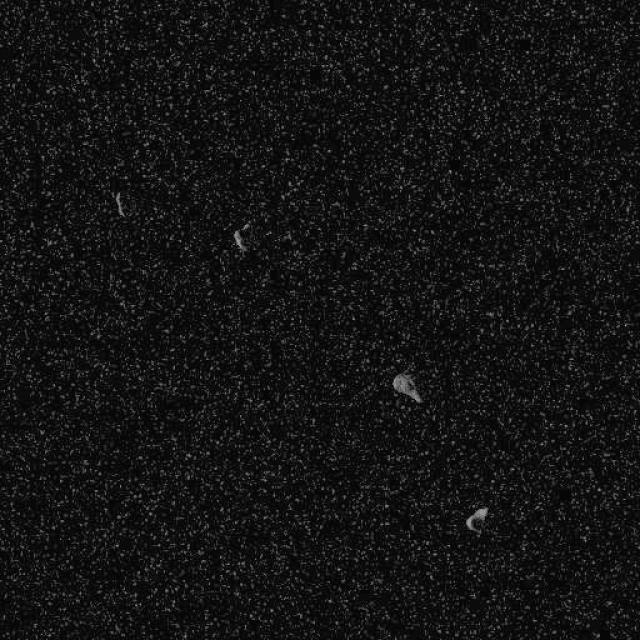D2: (392, 371, 422, 404), (464, 505, 488, 535), (231, 222, 250, 252), (112, 190, 126, 218)
